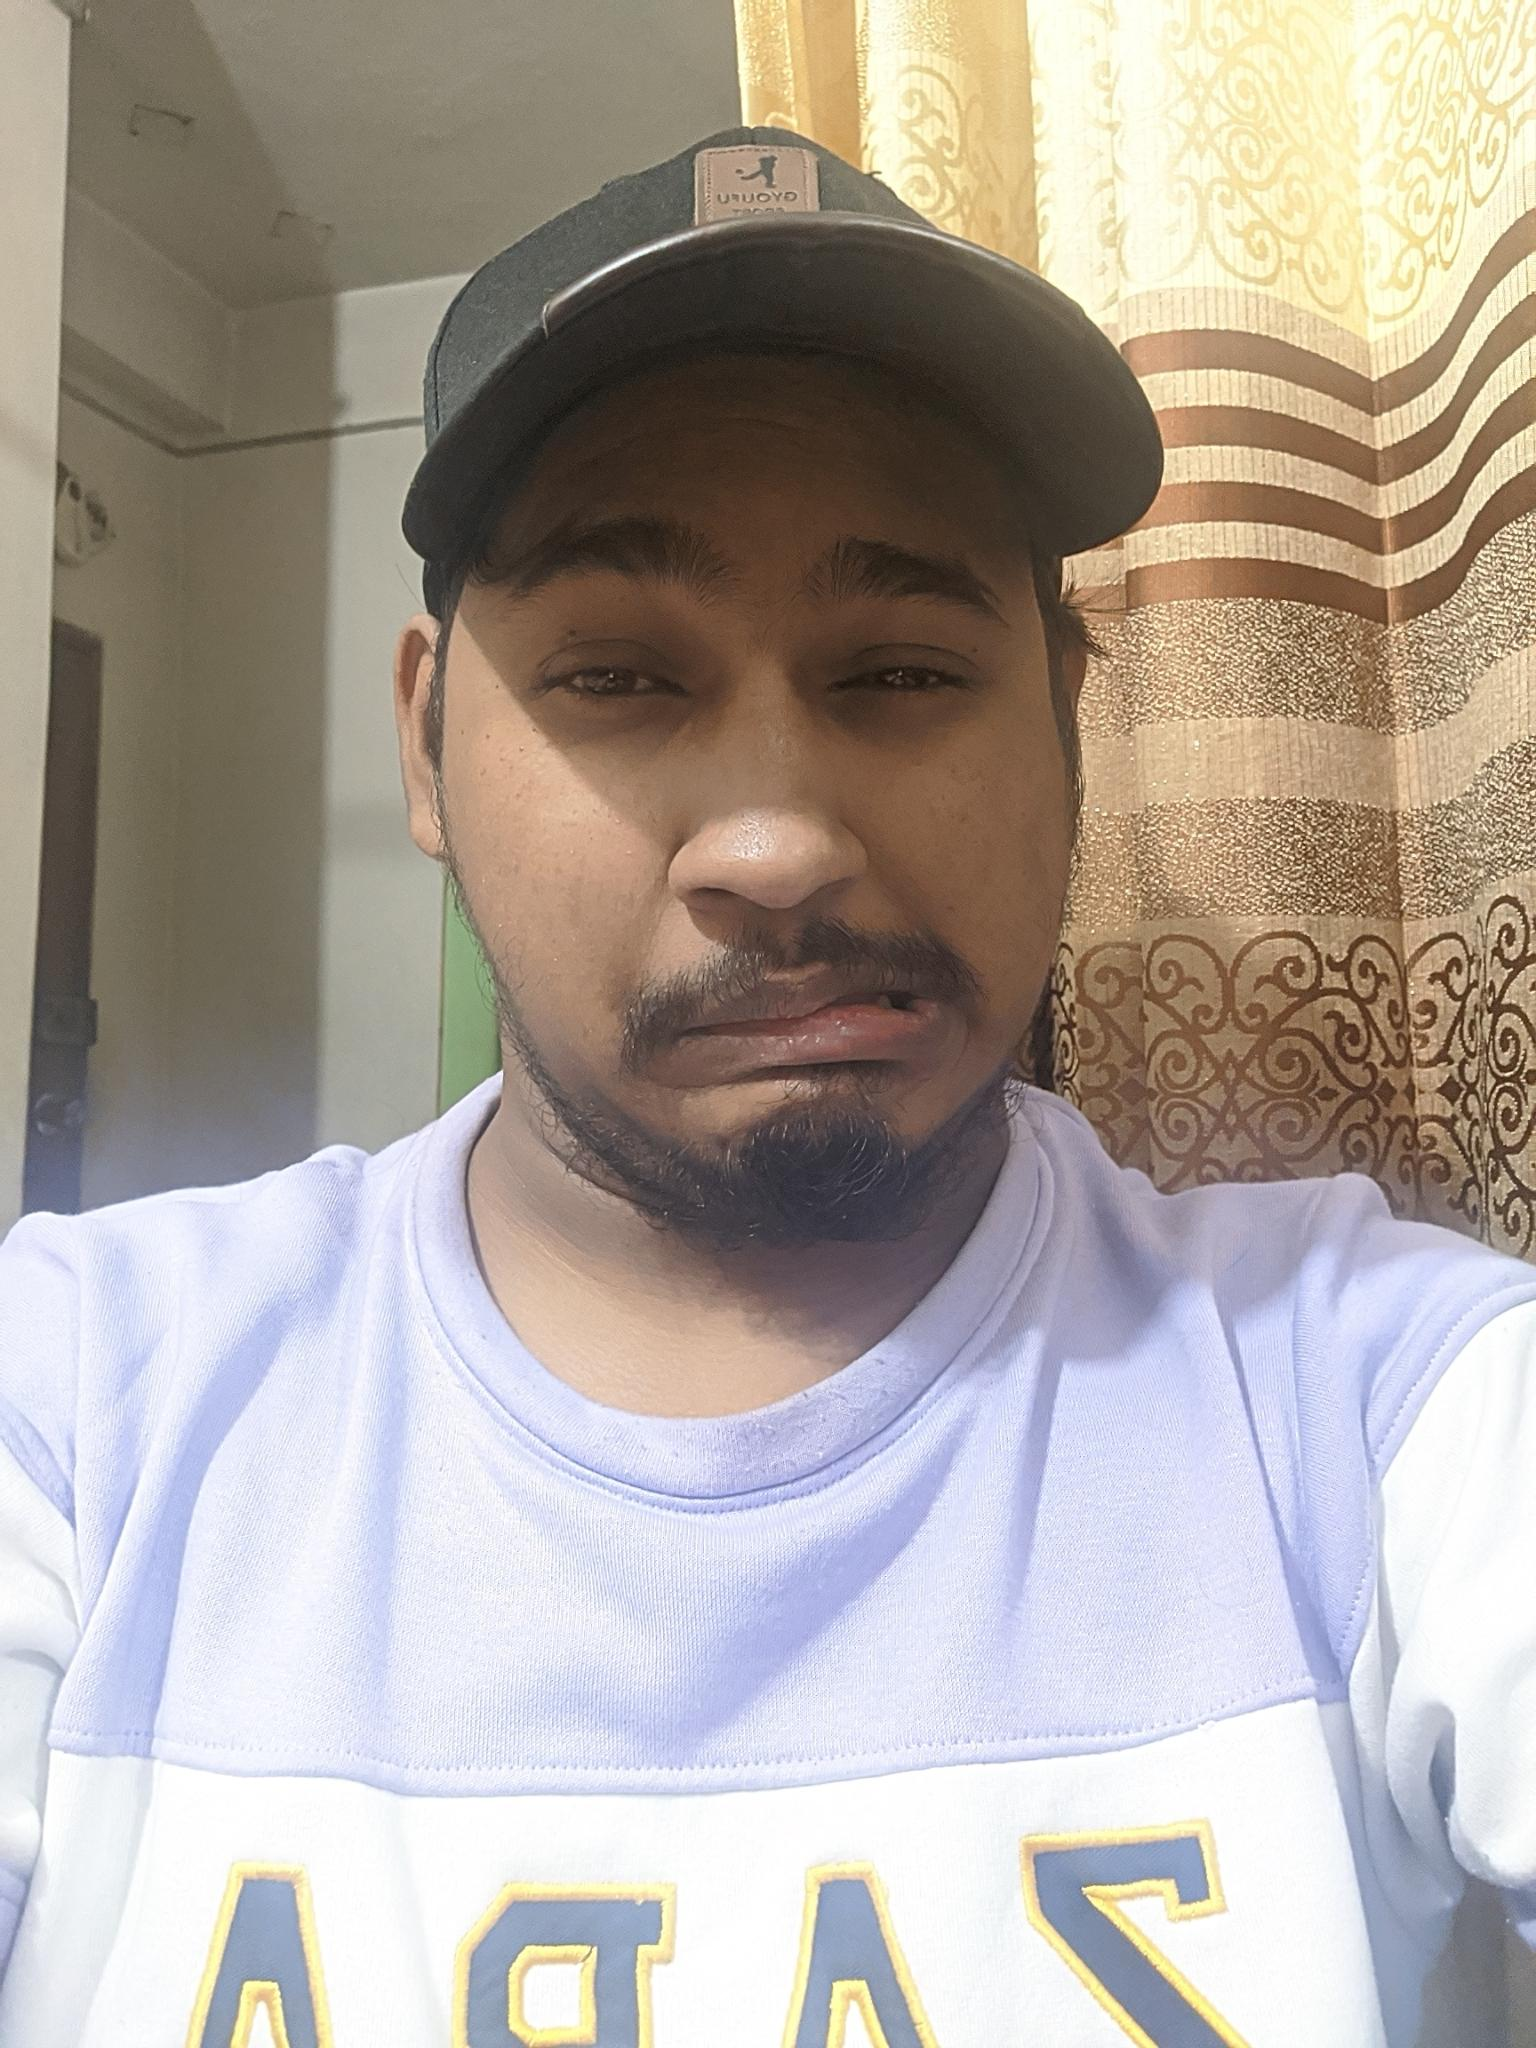Disgust: (476, 439, 1065, 1222)
